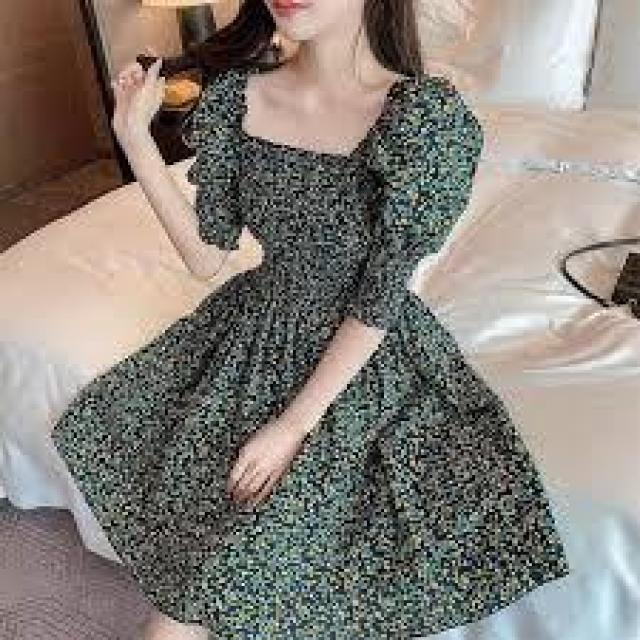dress: (54, 56, 580, 630)
